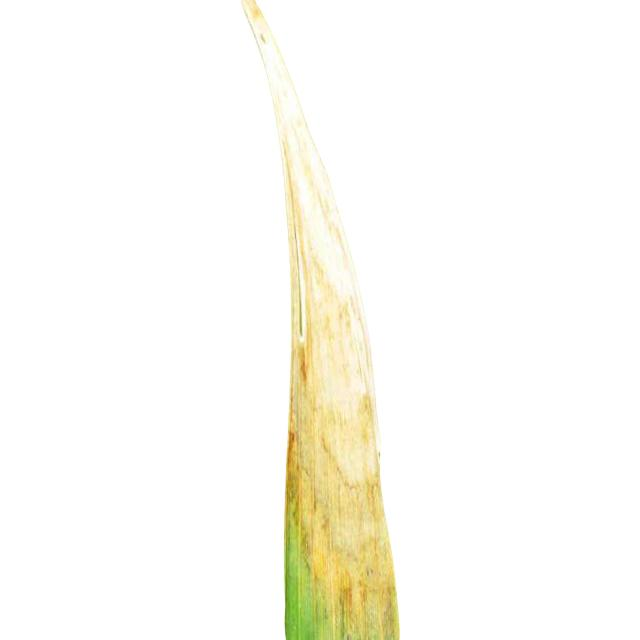Leaf scald: (220, 0, 490, 640)
